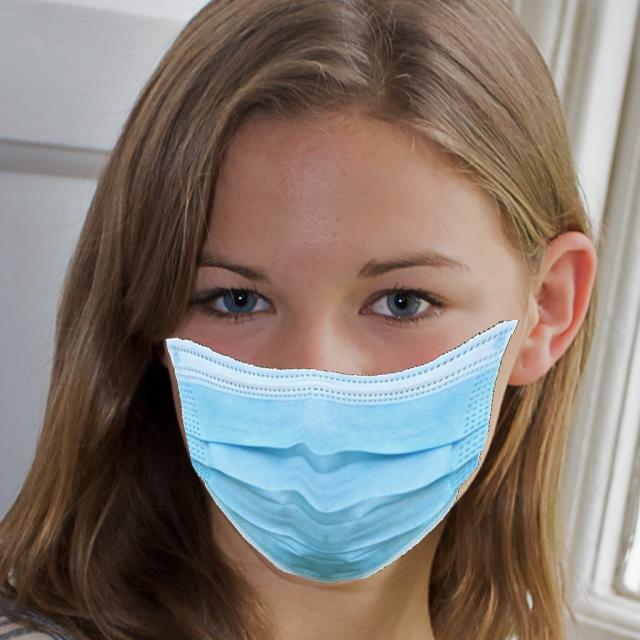1_mascarilla: (168, 322, 512, 580)
